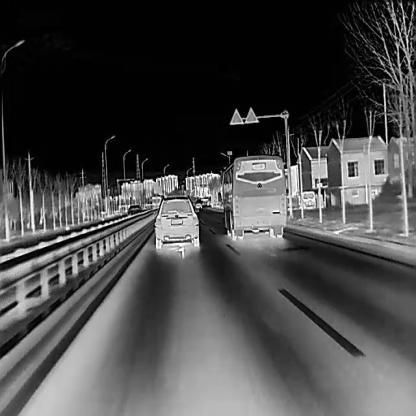car: (216, 154, 286, 240), (153, 192, 198, 248), (127, 203, 140, 217), (195, 202, 201, 209)
